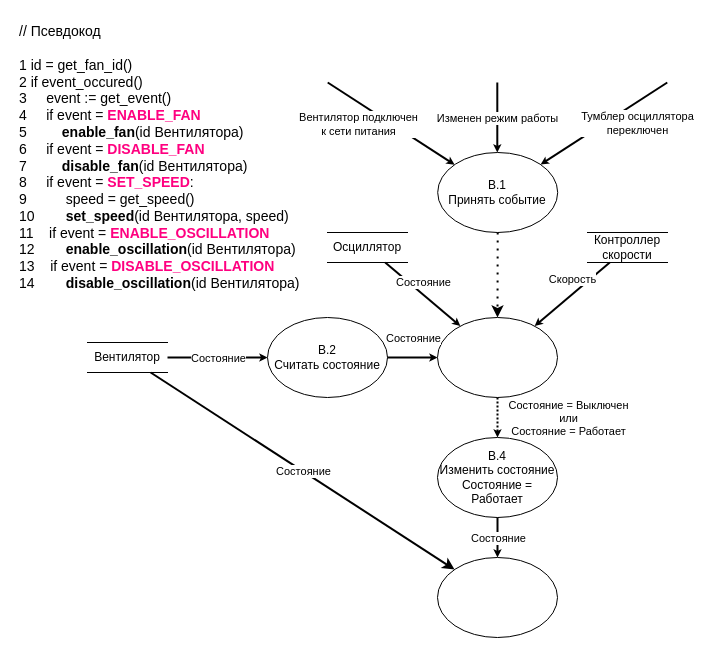
Image size: 711x655. Some labels were removed from this diagram. Each missing label, with the box of its shape:
В.3 Проверить состояние: (436, 316, 558, 398)
В.5 Записать состояние: (436, 556, 558, 638)
